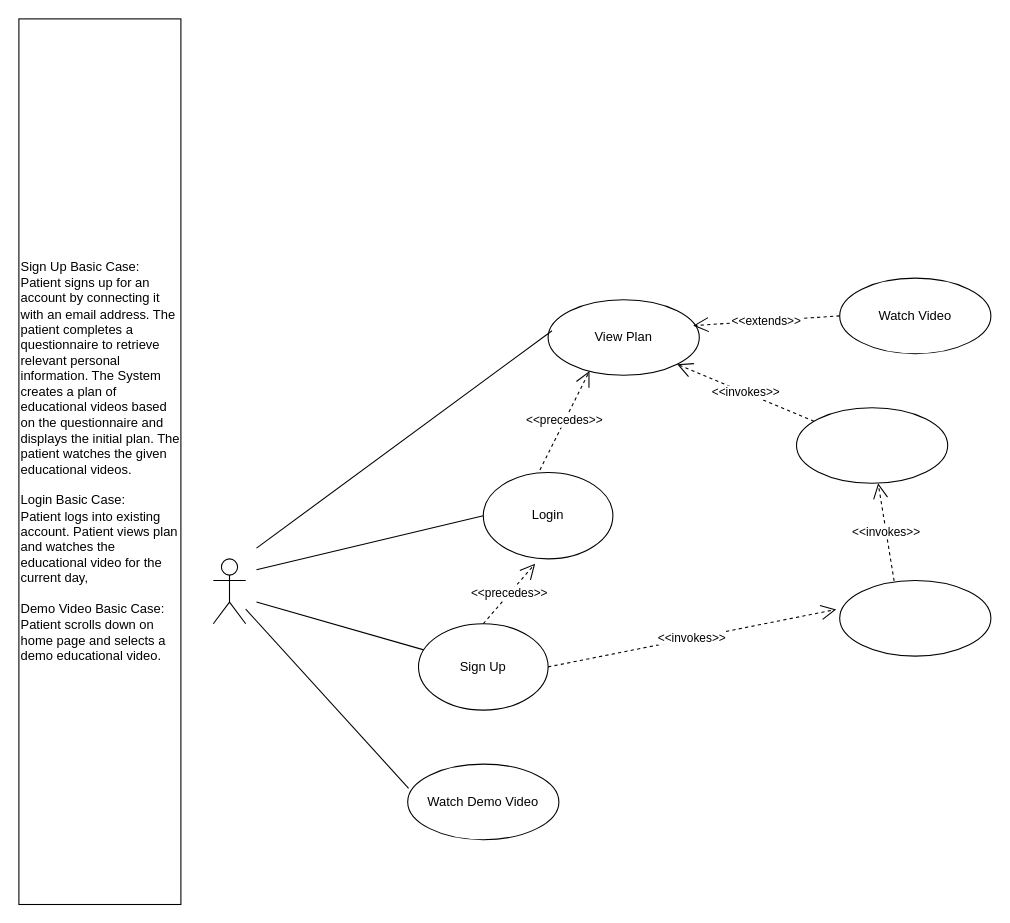
Some shapes in this 1010 by 923 pixel diagram are drawn without their labels. The shapes that lost their labels are listed below. From the top down, each one's centre as x and y in pixels, then its label:
the point at 871,445: Create Plan
the point at 229,591: Patient
the point at 915,617: Complete Starter Questionnaire
